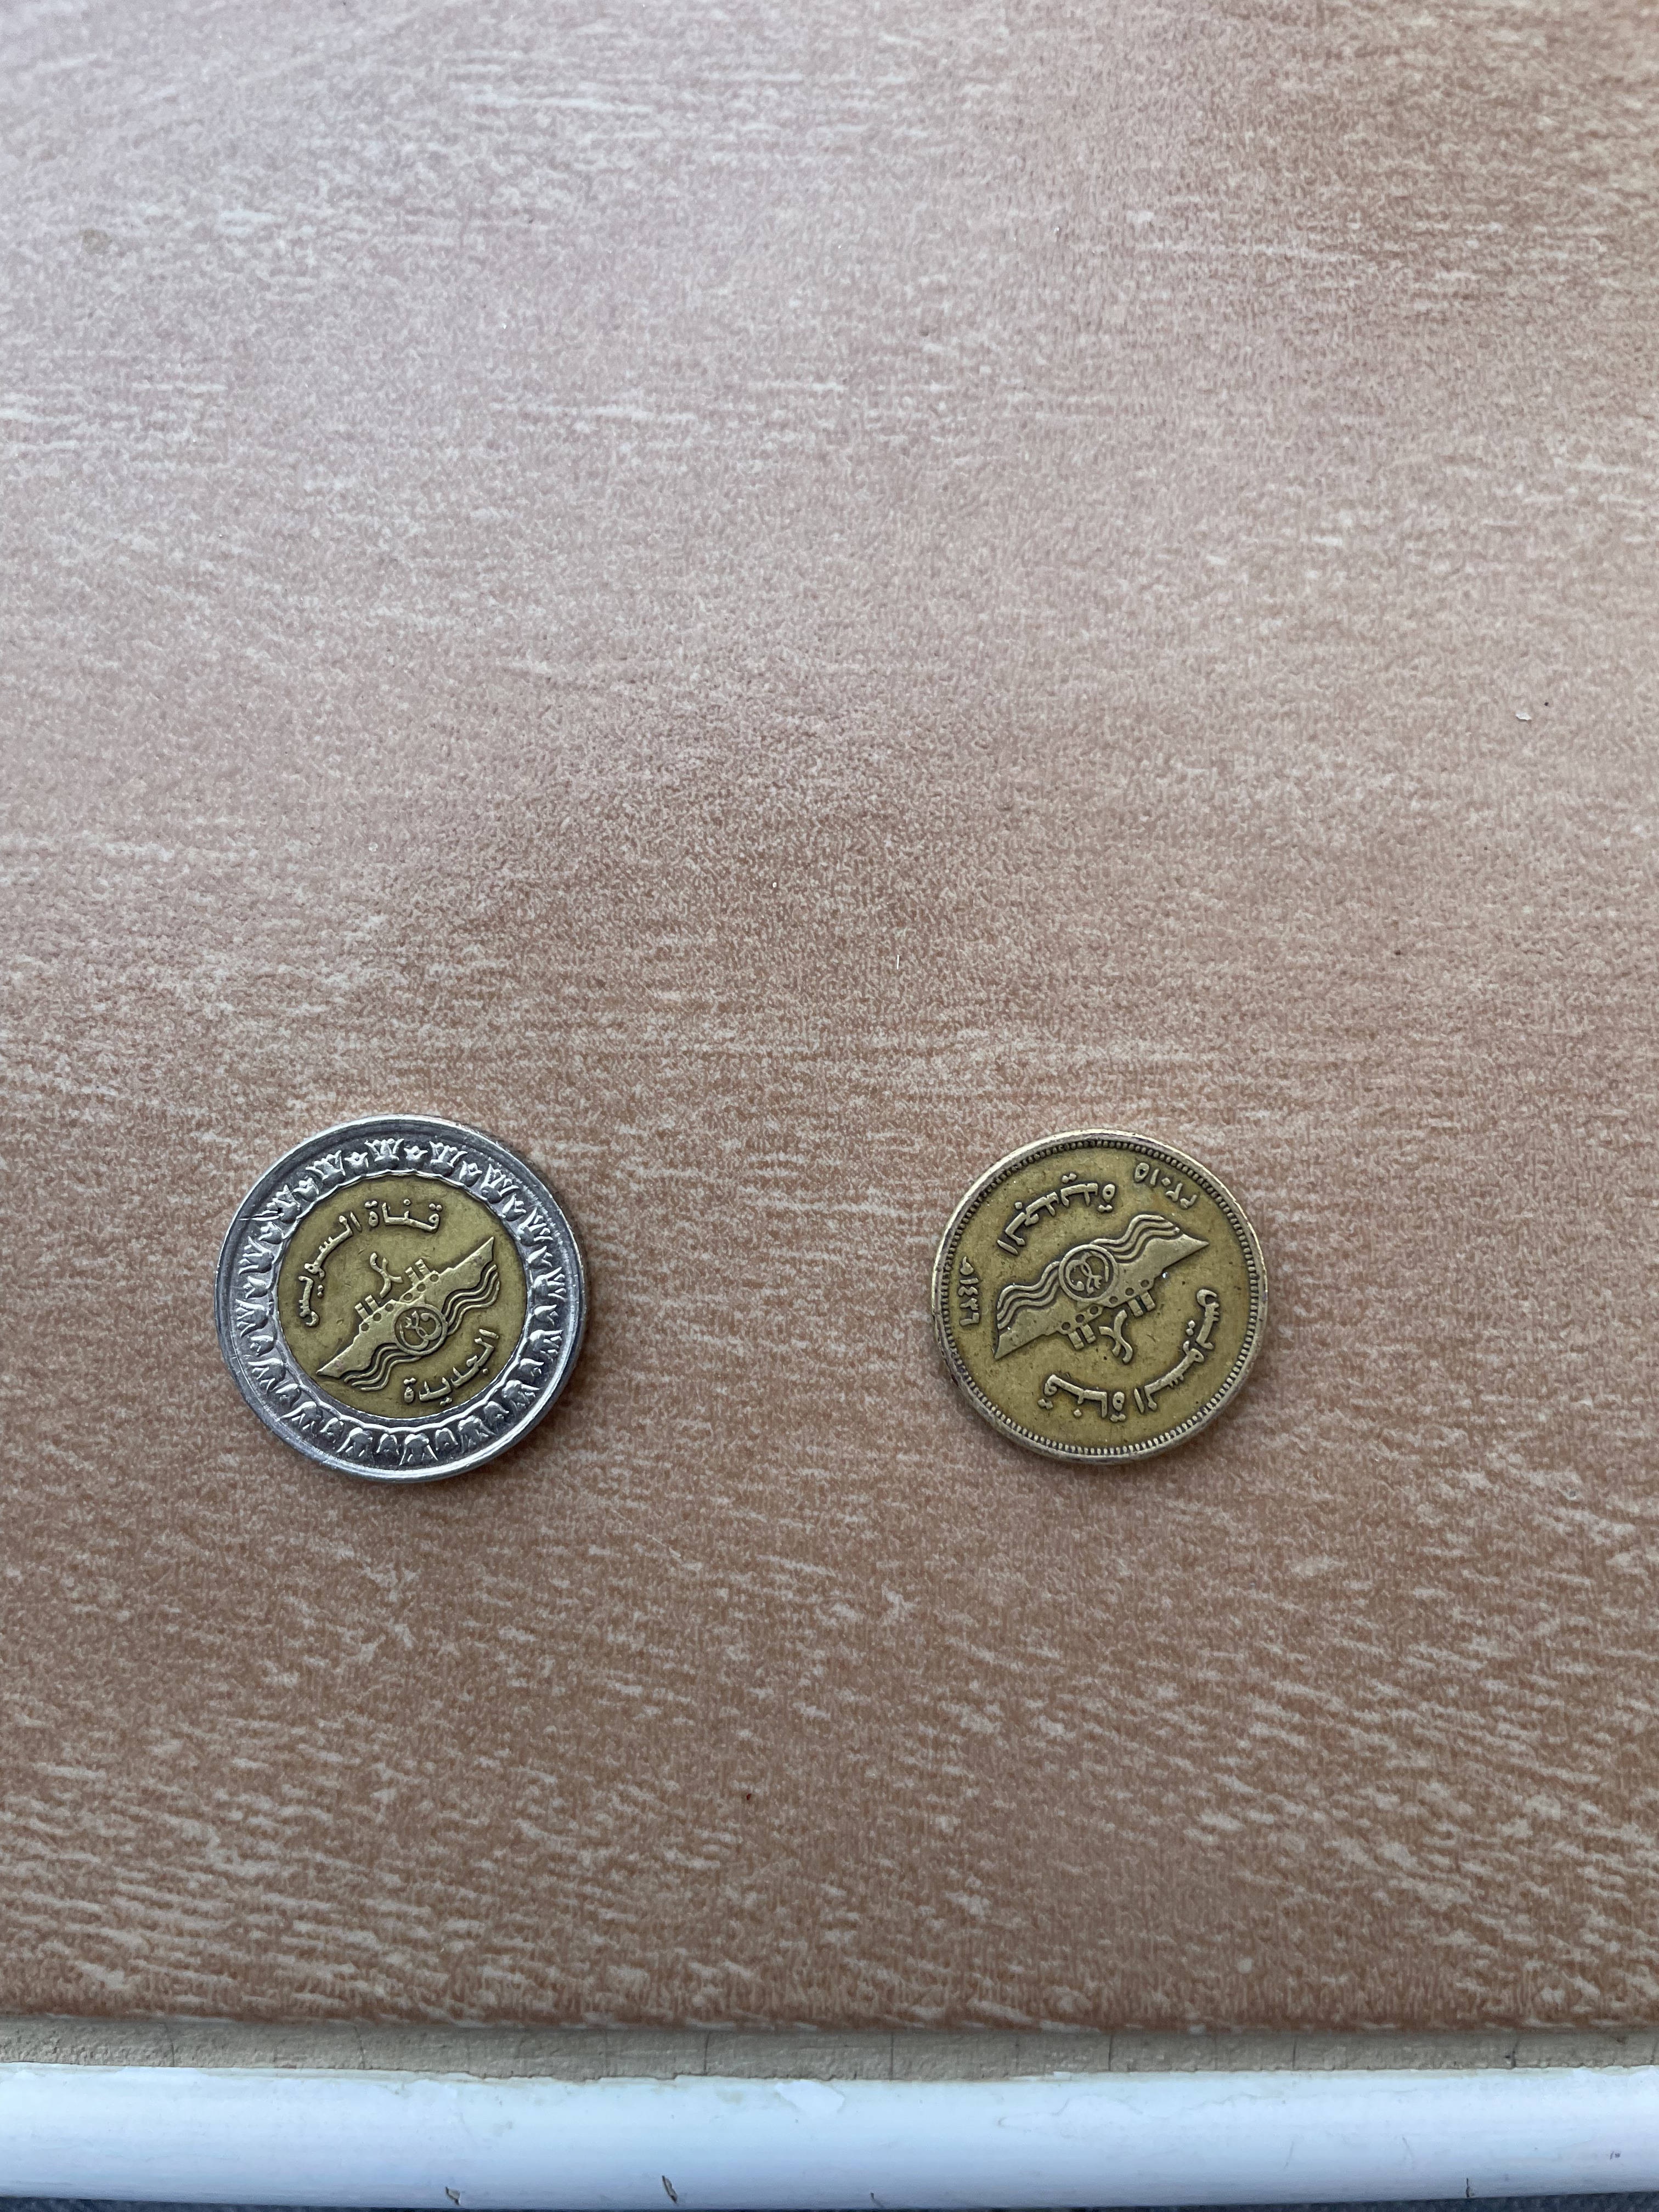half: (920, 1129, 1277, 1468)
one: (209, 1109, 599, 1494)
